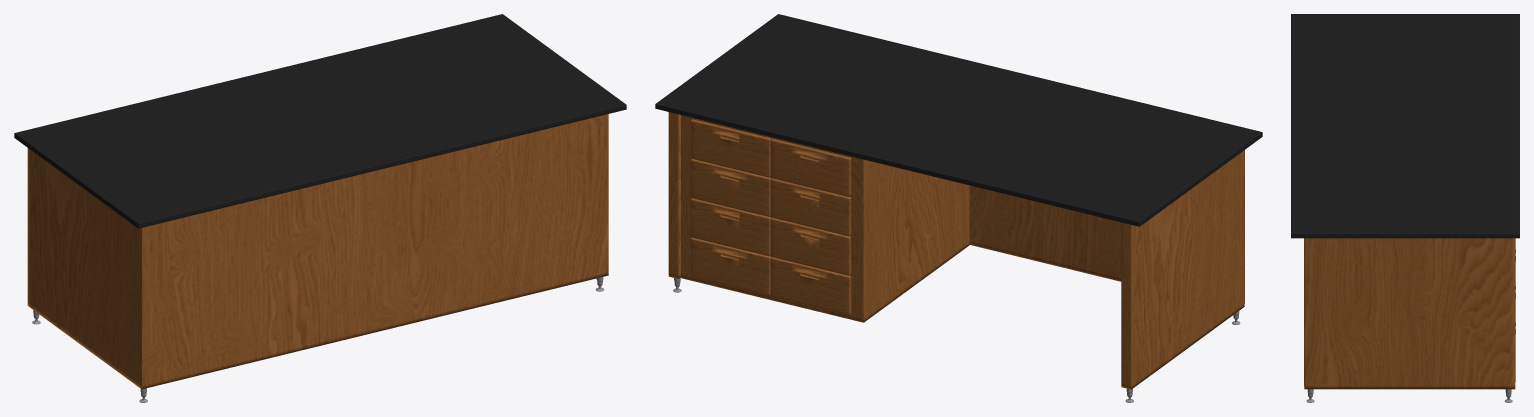
The model's file is Desk,Teacherlvl1.fbx.
The picture shows the model from 3 angles, left to right: view 1: azimuth 30°, elevation 25°; view 2: azimuth 150°, elevation 25°; view 3: azimuth 270°, elevation 25°; orthographic projection. The views are drawn at different scales.
Parts seen in each view (by area): view 1: Desk,Teacherlvl1; view 2: Desk,Teacherlvl1; view 3: Desk,Teacherlvl1.
Boxes of the visible parts, x1,y1,x2,y2 form: Desk,Teacherlvl1: (14, 14, 626, 402); Desk,Teacherlvl1: (655, 14, 1262, 402); Desk,Teacherlvl1: (1291, 14, 1519, 402).
Bounding box in the file's own units: 250 × 92.59 × 110.
